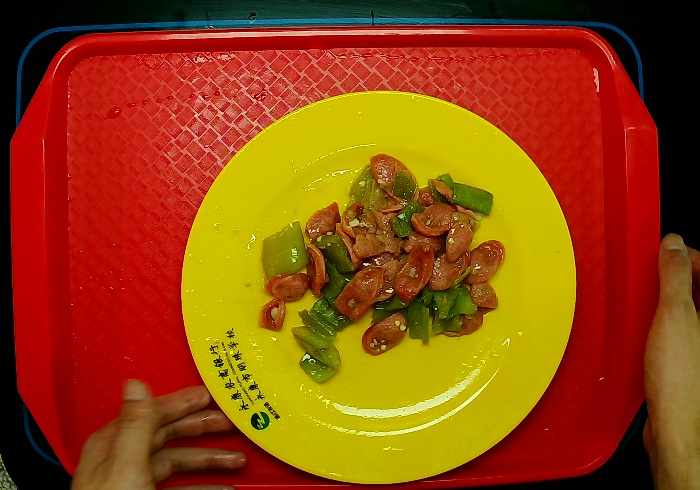YKMZ-Huang_Se_Mian_Pan: (176, 84, 582, 490)
